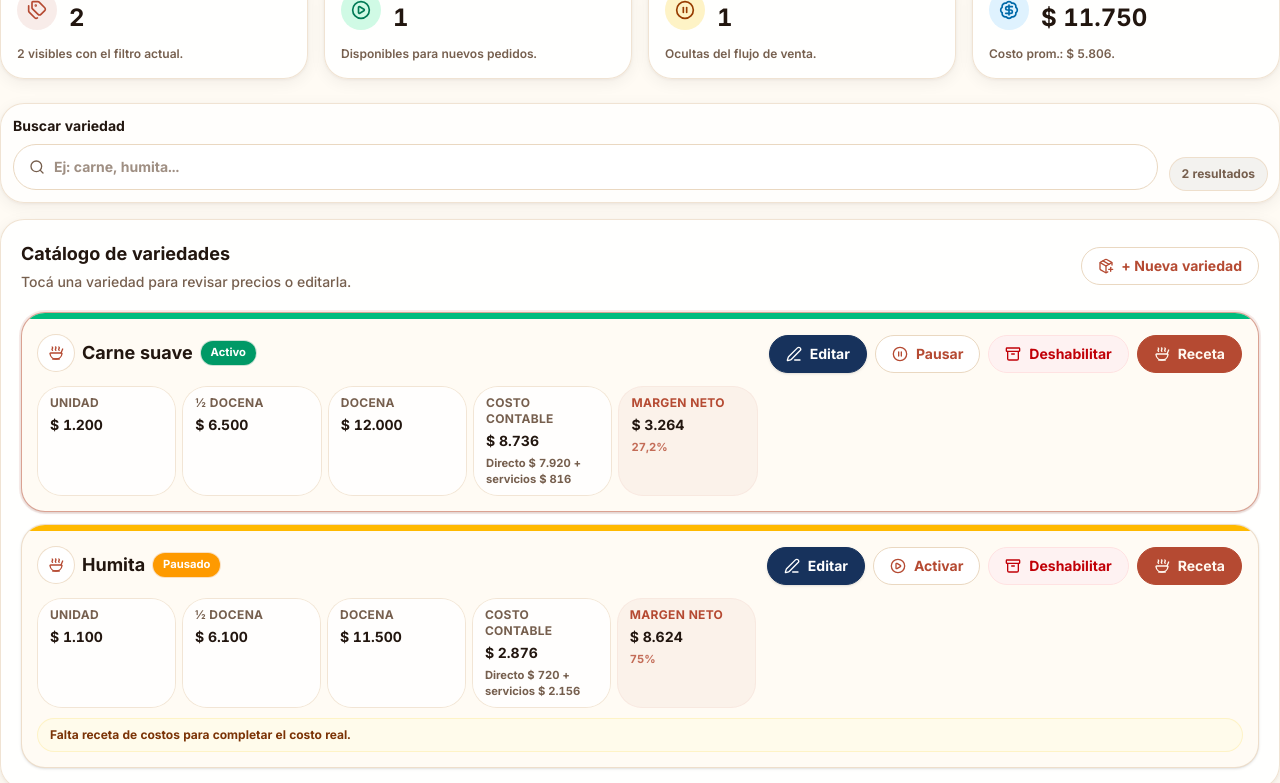
Test case: MenuPage › opens the selected menu card as a full-screen detail panel on mobile
(page scrolled)
Click the button with aria-label "variedad humita": (640, 646) 21,524 -> 1259,768
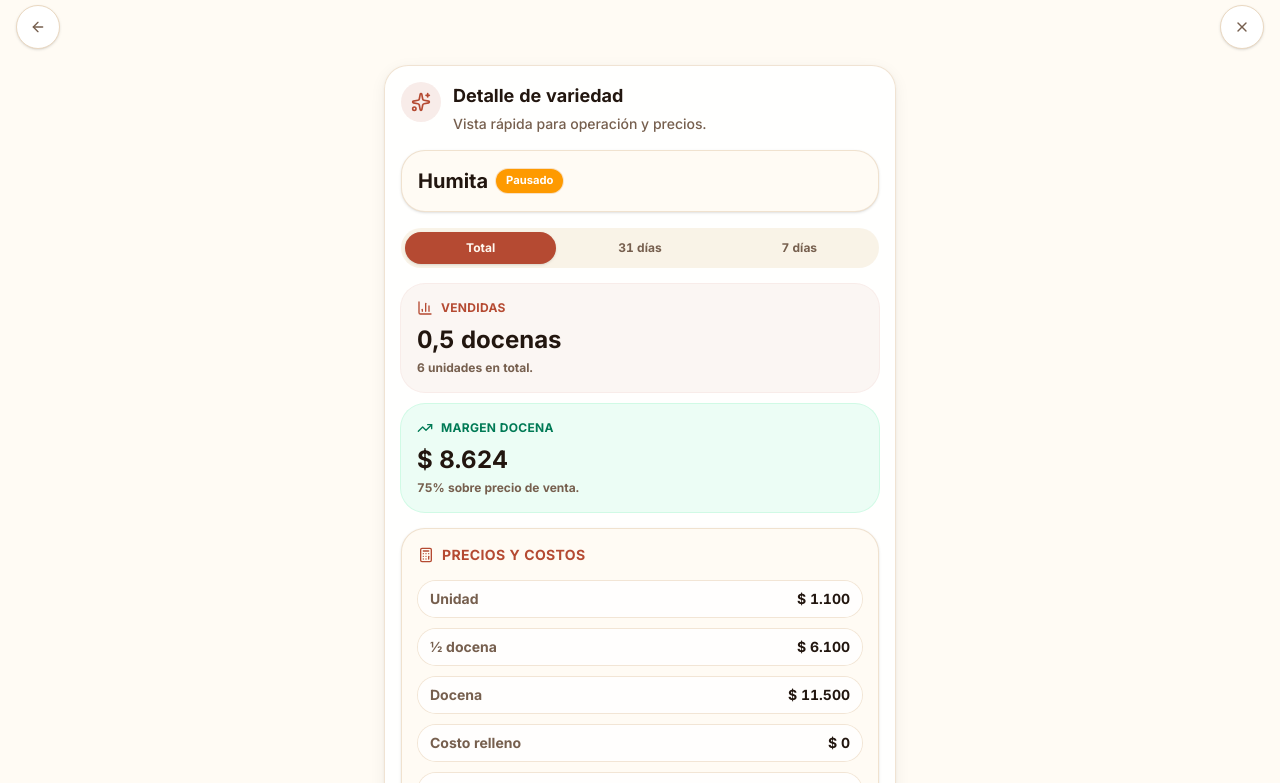
Result: the element named "detalle de variedad seleccionada" shows "Humita" at 418,169 -> 488,193
Result: the element named "detalle de variedad seleccionada" shows "0,5 docenas" at 417,325 -> 562,354
Result: the element named "detalle de variedad seleccionada" shows "$ 11.500" at 788,686 -> 850,703
